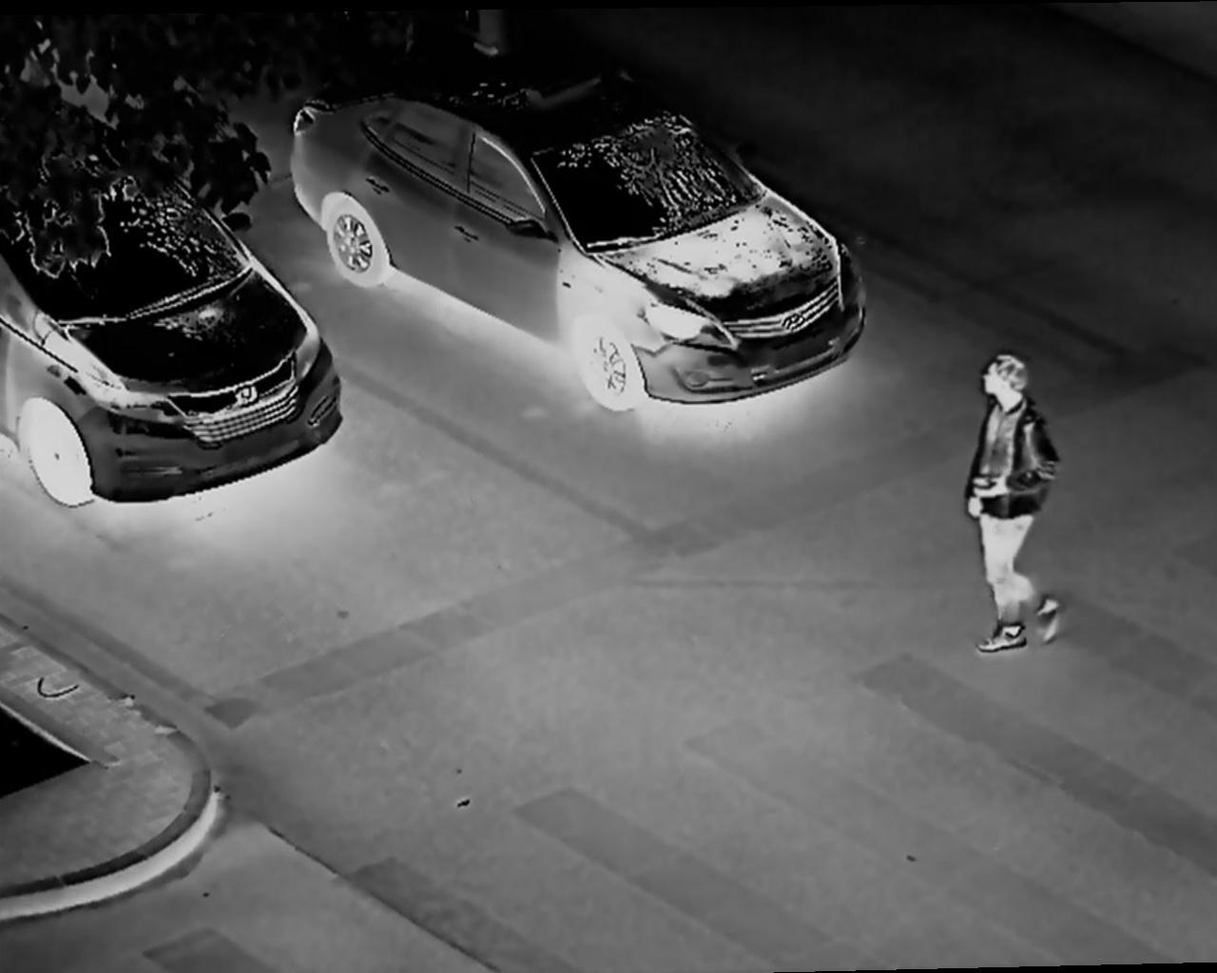person: (965, 345, 1075, 647)
